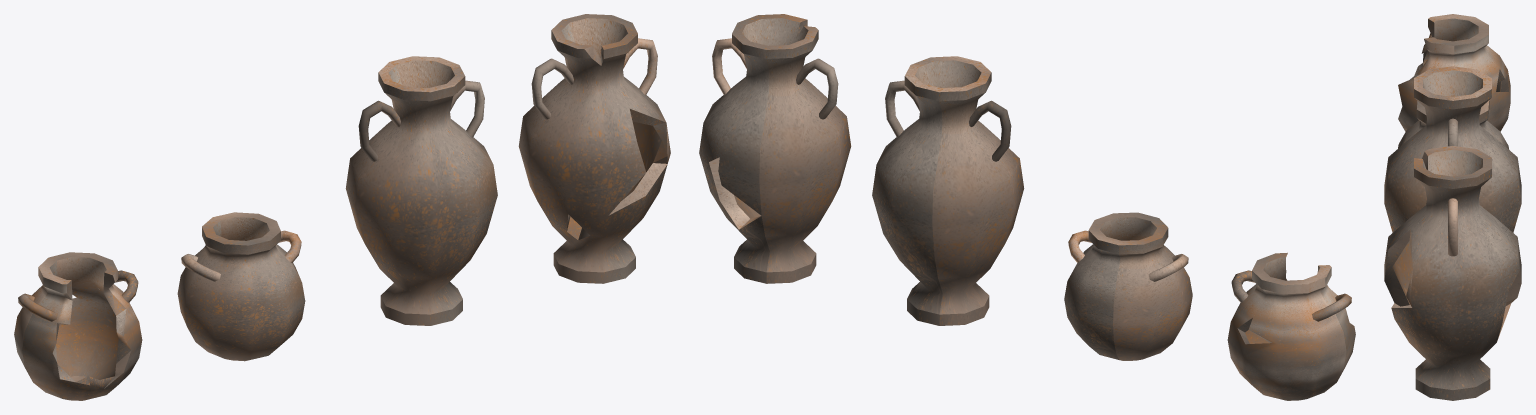
Rendered from Pots.fbx.
3 renders of one model, left to right at view 1: azimuth 30°, elevation 25°; view 2: azimuth 150°, elevation 25°; view 3: azimuth 270°, elevation 25°, orthographic. The views are drawn at different scales.
Visible parts, largest first — view 1: Tall, TallBroken, SmallBroken, Small; view 2: Tall, TallBroken, Small, SmallBroken; view 3: TallBroken, Tall, SmallBroken, Small.
Boxes of the visible parts, x1,y1,x2,y2 form: Tall: (345,56,497,325); TallBroken: (518,14,670,283); SmallBroken: (14,252,142,400); Small: (177,212,305,361); Tall: (872,56,1024,325); TallBroken: (699,14,851,283); Small: (1064,212,1192,360); SmallBroken: (1227,252,1355,400); TallBroken: (1384,146,1521,400); Tall: (1384,66,1521,232); SmallBroken: (1398,14,1510,131); Small: (1398,100,1508,149).
Bounding box in the file's own units: 6.65 × 2.33 × 1.31.
